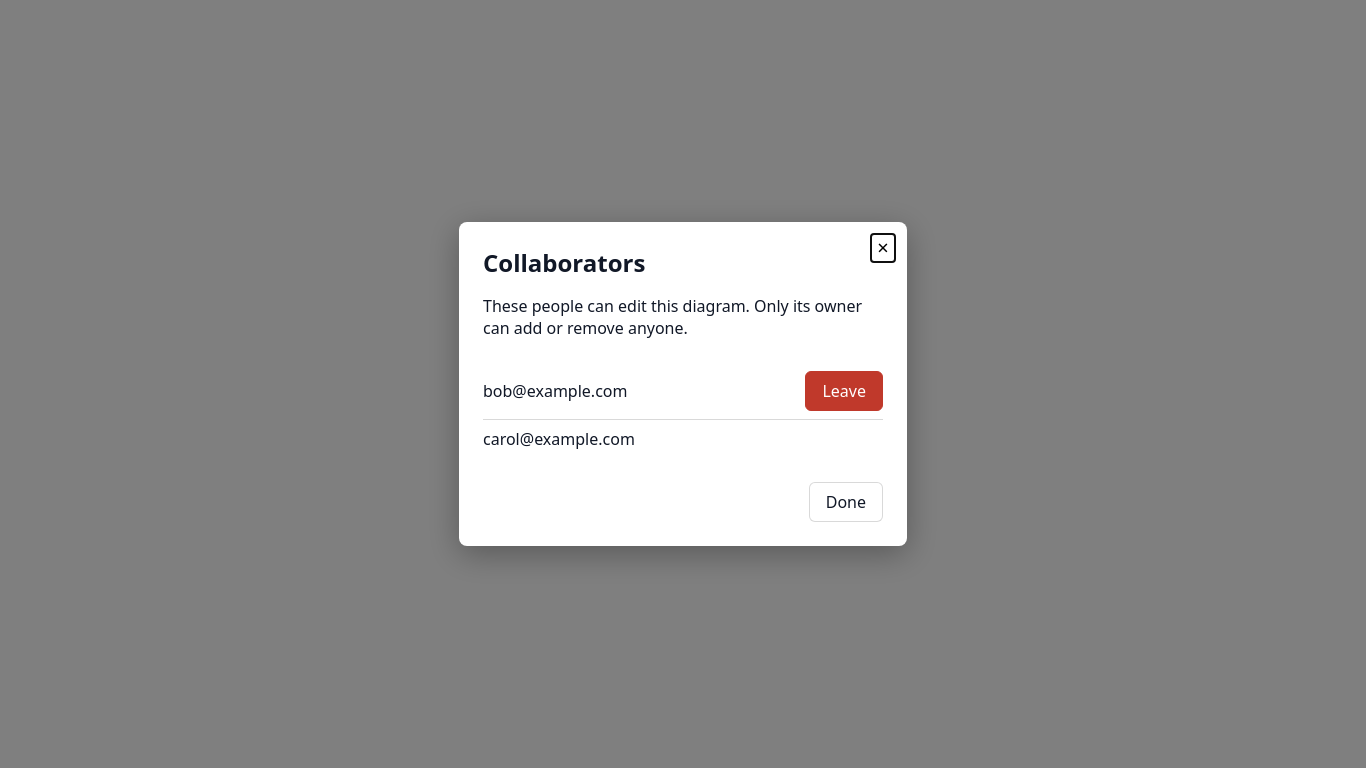
Test: reports a failed leave rather than claiming it worked
Click the button with aria-label "Leave this diagram" at (844, 391), box [806, 371, 883, 411]
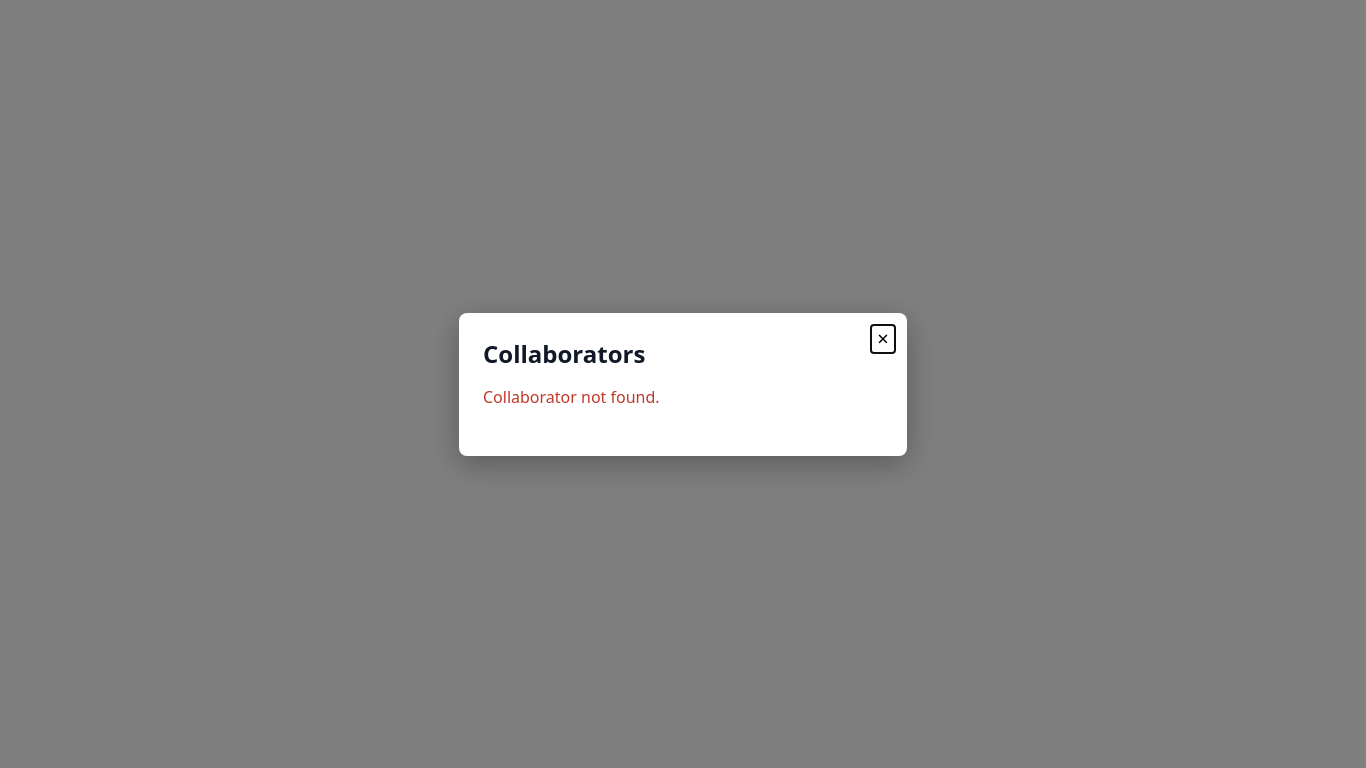
Check: the message reads "Collaborator not found.", box [483, 386, 660, 408]
